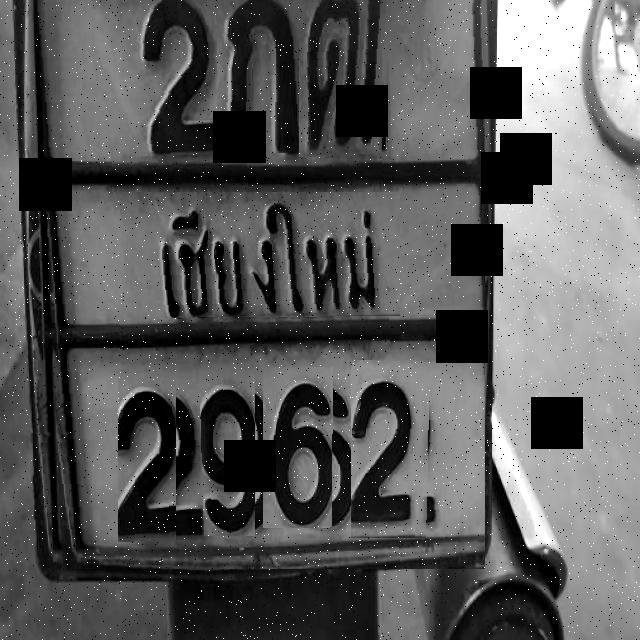letters: (128, 0, 222, 167), (299, 0, 392, 158), (351, 360, 430, 538), (264, 367, 334, 528), (217, 0, 289, 153), (118, 373, 176, 542), (199, 368, 255, 536)
license-plate: (38, 0, 485, 569)
province: (119, 192, 400, 318)
